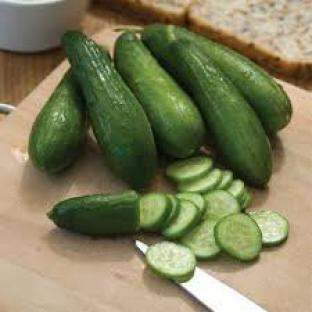Cucumber: (143, 25, 292, 133), (170, 41, 271, 187), (63, 31, 156, 187), (114, 32, 205, 158), (28, 71, 87, 173), (48, 192, 140, 235), (215, 214, 262, 260), (146, 242, 195, 282), (181, 220, 220, 259), (163, 200, 201, 239), (249, 211, 288, 245), (139, 193, 171, 231), (167, 157, 213, 183), (178, 168, 221, 194), (204, 190, 241, 220), (177, 193, 205, 214), (163, 195, 180, 228), (227, 179, 245, 202), (218, 170, 232, 189), (240, 189, 252, 209)
